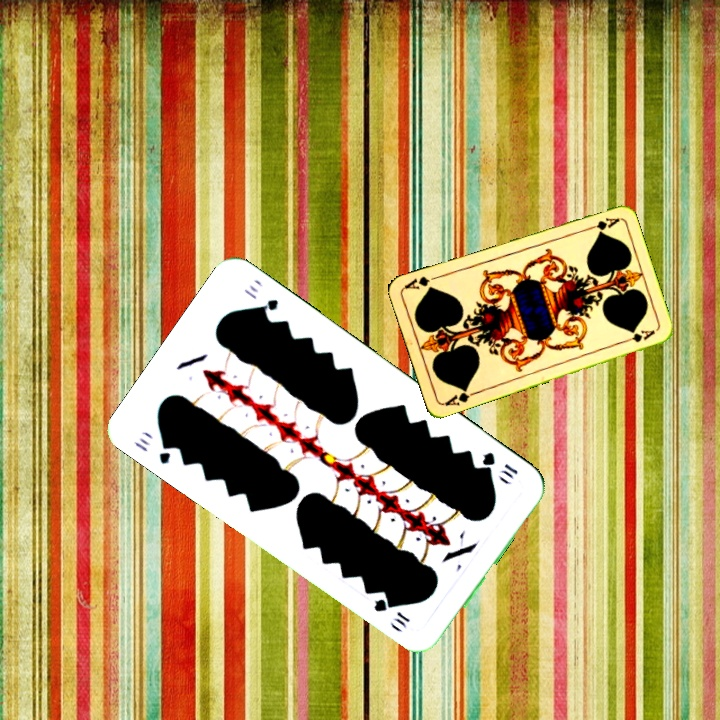G10: (129, 433, 177, 467), (477, 448, 521, 481)
GA: (440, 383, 480, 409), (581, 213, 621, 234)
